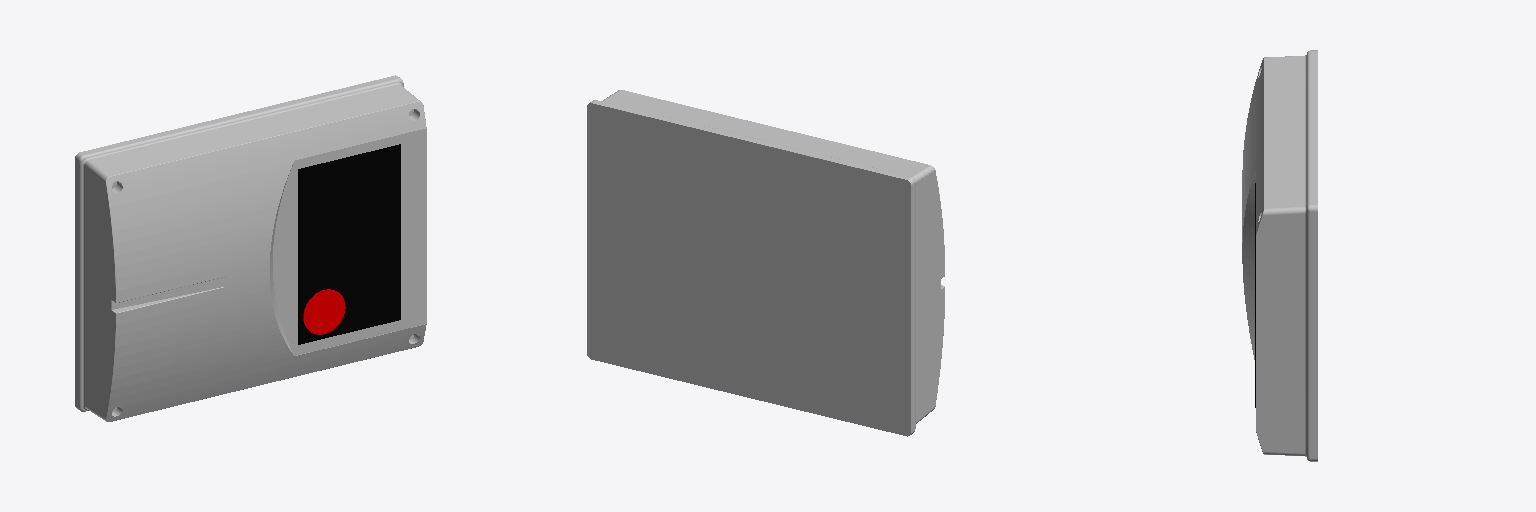
Rendered from frontcover.obj.
3 renders of one model, left to right at view 1: azimuth 30°, elevation 25°; view 2: azimuth 150°, elevation 25°; view 3: azimuth 270°, elevation 25°, orthographic.
Visible parts, largest first — view 1: frontcover; view 2: frontcover; view 3: frontcover.
Boxes of the visible parts, <box> form: frontcover: <box>75,75,426,421</box>; frontcover: <box>587,90,944,436</box>; frontcover: <box>1242,50,1317,461</box>.
Bounding box in the file's own units: 348 × 263 × 70.